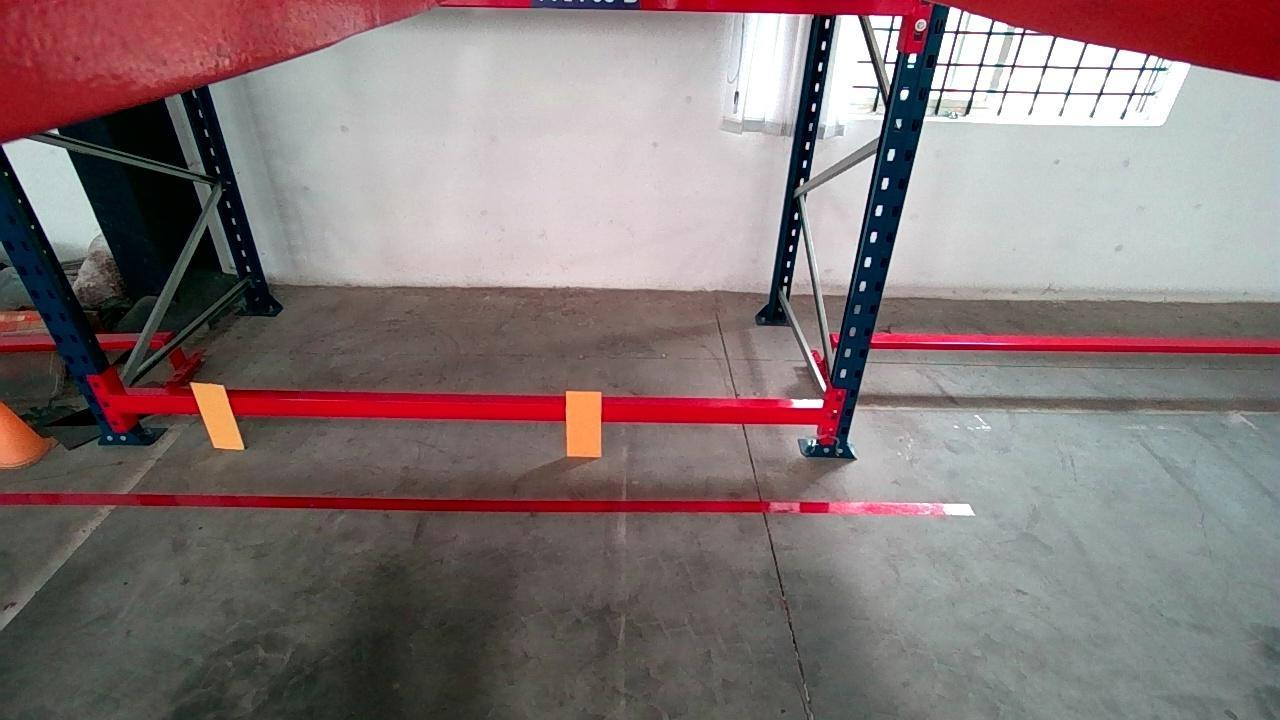h_rack: (113, 391, 827, 424)
orange_strip: (189, 382, 247, 448), (567, 390, 601, 456)
red_line: (0, 491, 970, 515)
